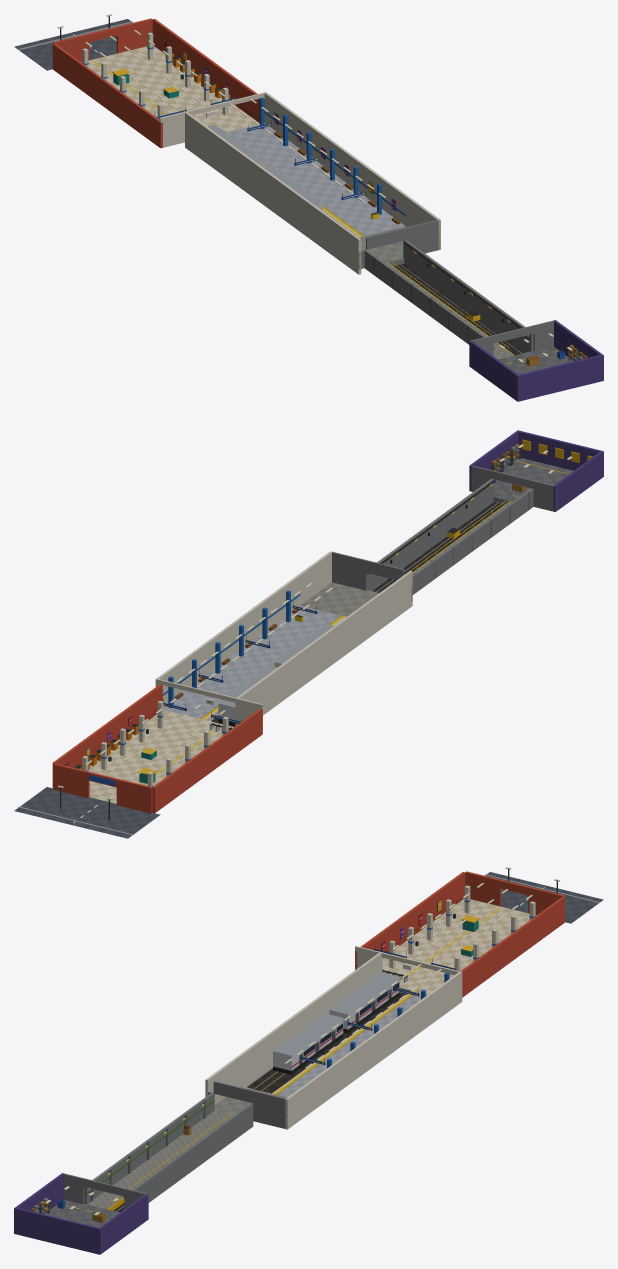
The model's file is stage1.glb.
3 renders of one model, top to bottom at view 1: azimuth 30°, elevation 25°; view 2: azimuth 150°, elevation 25°; view 3: azimuth 330°, elevation 25°, orthographic.
Parts seen in each view (by area): view 1: Tunnel, Platform, Hall, Lights; view 2: Tunnel, Hall, Platform, Lights; view 3: Tunnel, Platform, Hall, Lights.
Boxes of the visible parts, bbox=[...] form: Tunnel: bbox=[326, 196, 603, 401]; Platform: bbox=[159, 92, 407, 250]; Hall: bbox=[14, 16, 259, 148]; Lights: bbox=[57, 14, 572, 362]; Tunnel: bbox=[298, 430, 603, 629]; Hall: bbox=[14, 684, 262, 838]; Platform: bbox=[155, 575, 379, 734]; Lights: bbox=[57, 444, 572, 799]; Tunnel: bbox=[14, 1056, 320, 1254]; Platform: bbox=[238, 946, 462, 1104]; Hall: bbox=[355, 869, 603, 997]; Lights: bbox=[45, 867, 560, 1215].
Bounding box in the file's own units: 28 × 8.2 × 209.
